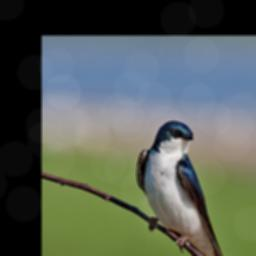Swallow: (135, 118, 235, 256)
